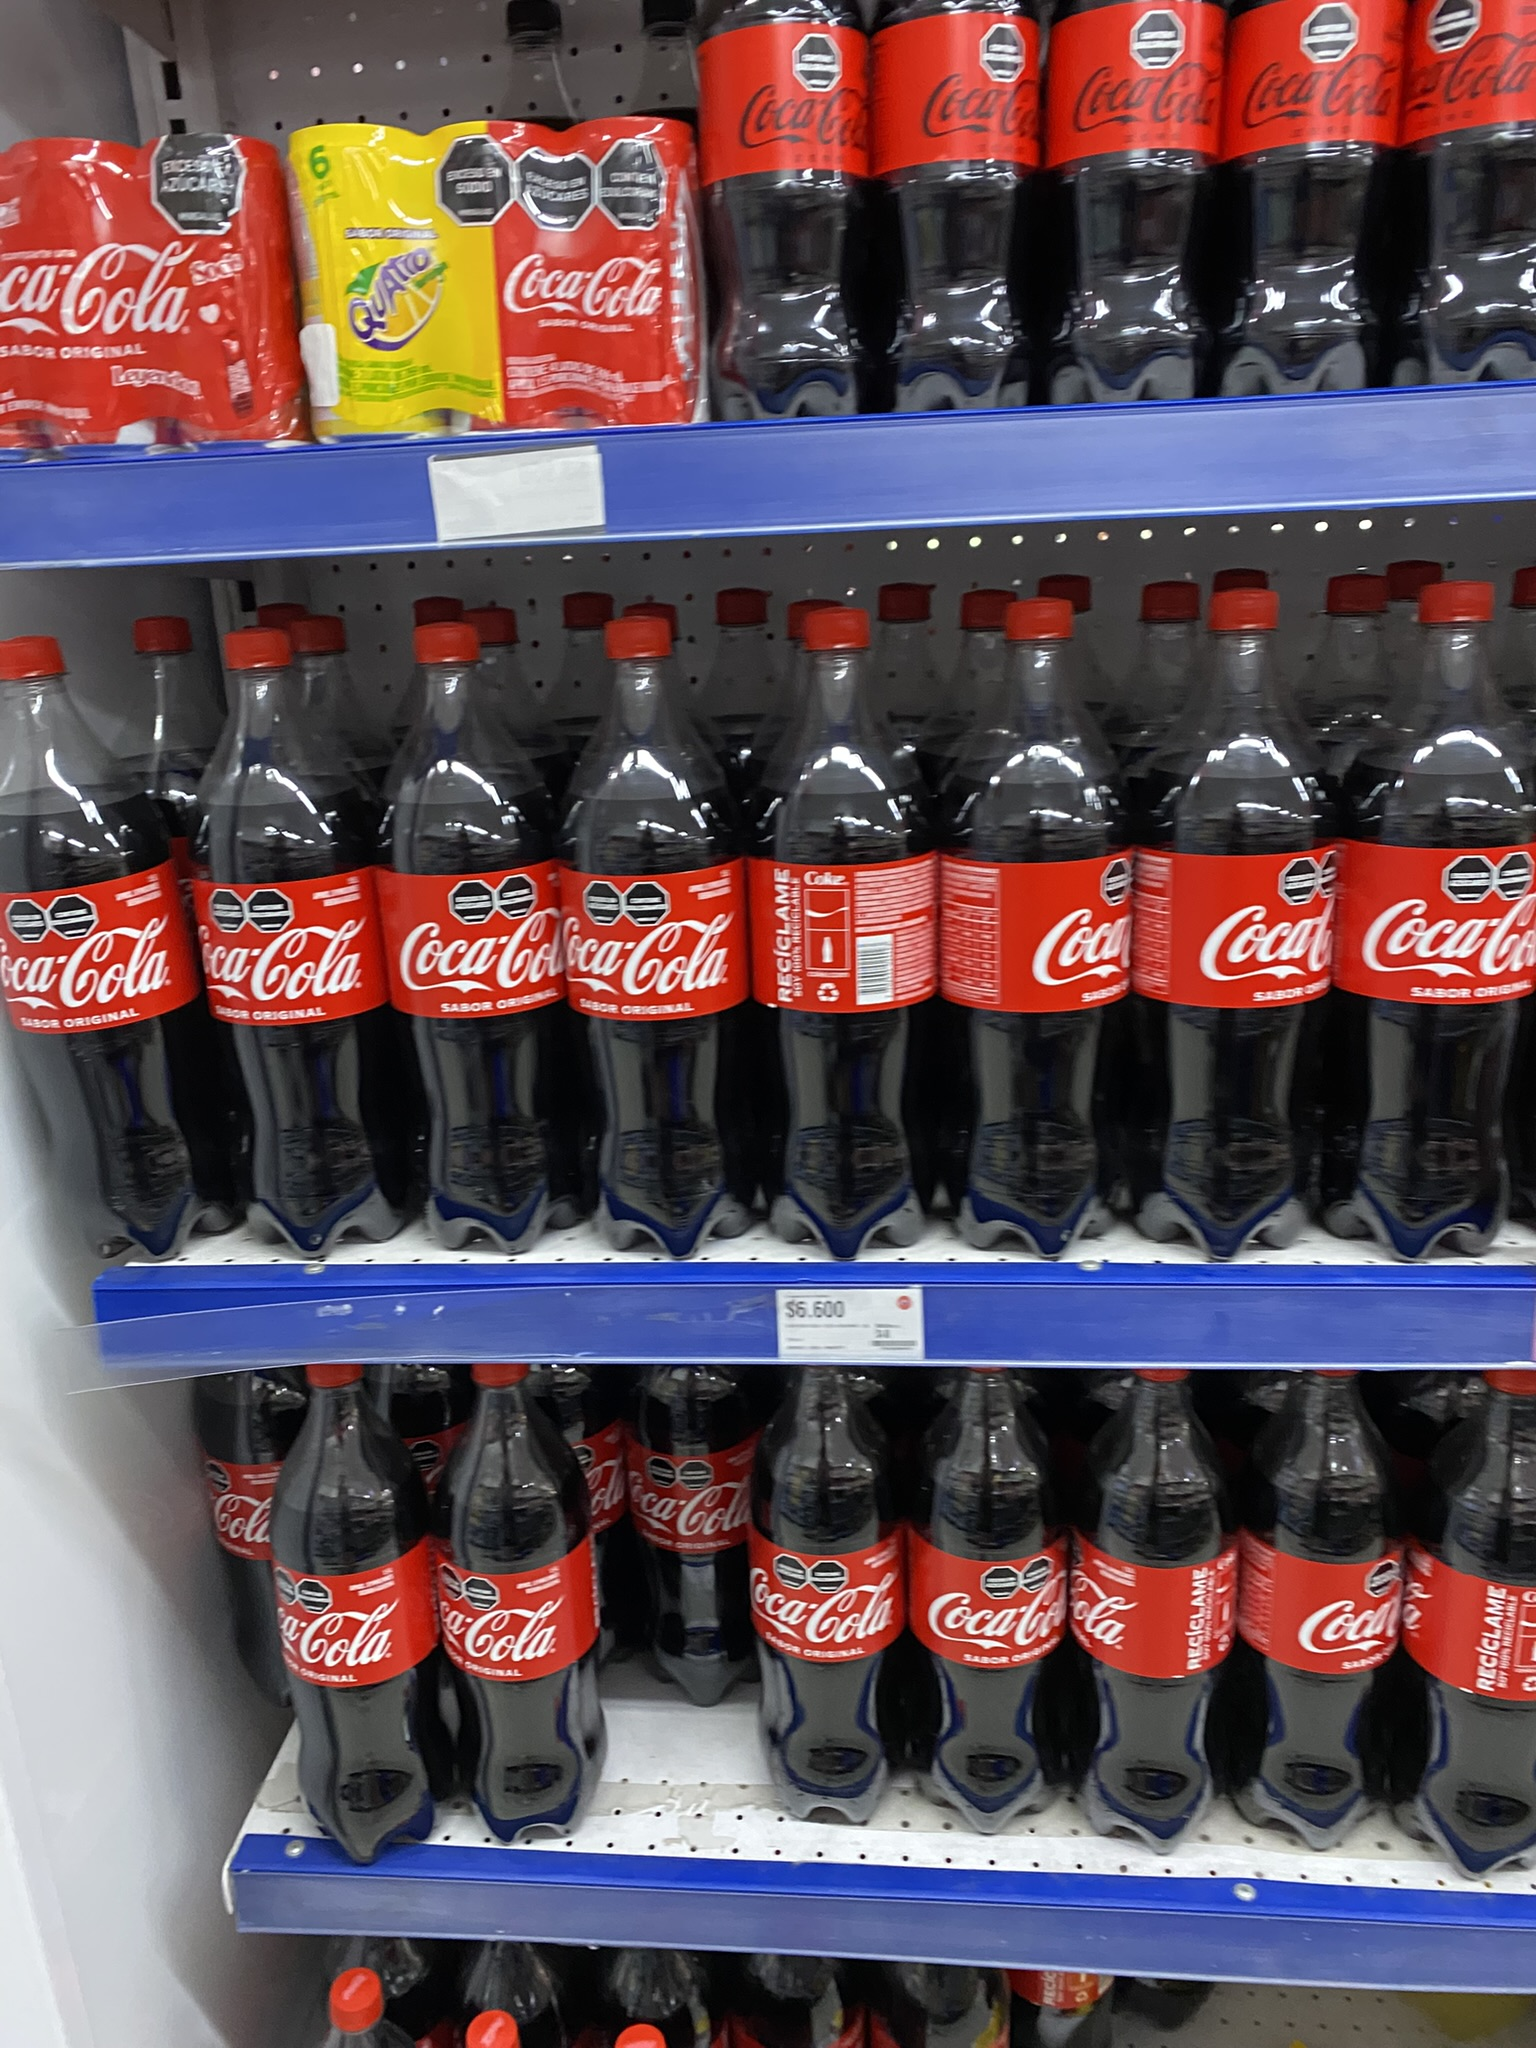Coca Cola: (557, 606, 784, 1240), (1333, 581, 1536, 1253), (374, 619, 591, 1235), (5, 642, 210, 1269), (1136, 581, 1329, 1243), (755, 605, 945, 1253), (198, 631, 392, 1237), (949, 593, 1129, 1240), (278, 1359, 442, 1851), (1238, 1348, 1394, 1834), (445, 1359, 602, 1838), (912, 1369, 1068, 1830), (1076, 1359, 1226, 1830), (758, 1361, 907, 1822), (1407, 1377, 1536, 1867)
